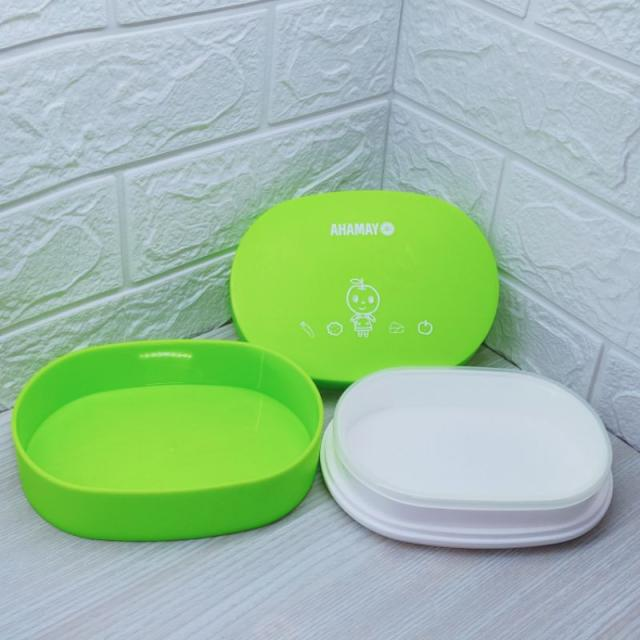plastic: (16, 338, 316, 545), (319, 369, 617, 554), (226, 192, 498, 376)
